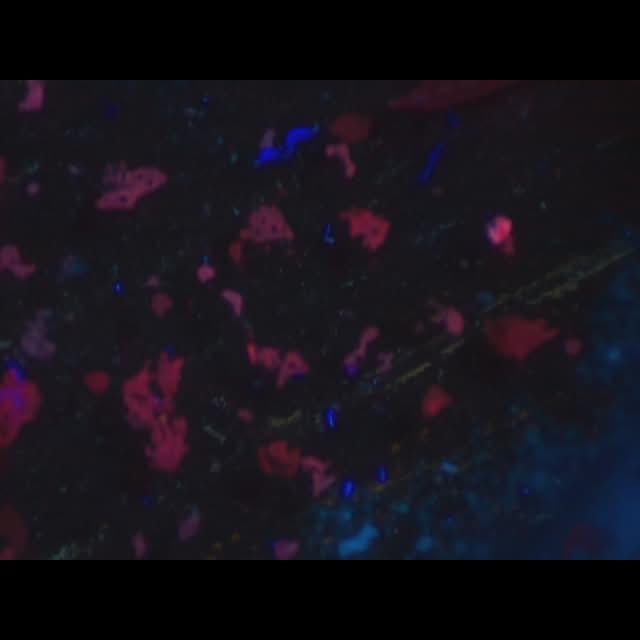Fragment: (94, 156, 168, 210)
